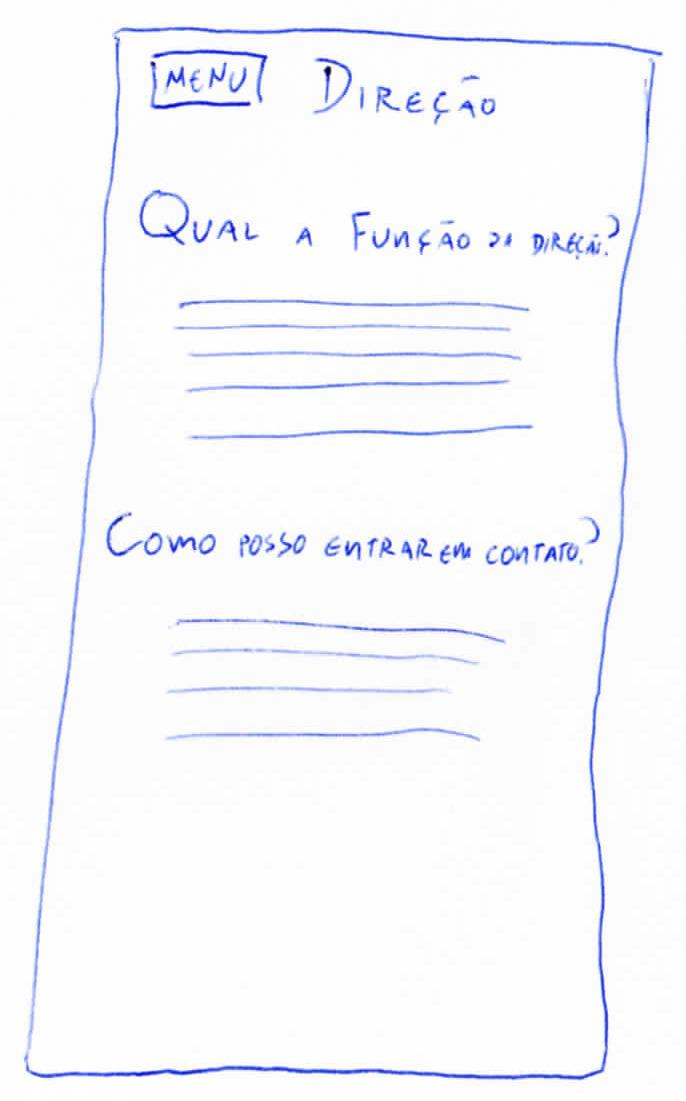Button: (150, 51, 268, 109)
Label: (173, 300, 535, 440), (163, 620, 506, 743), (141, 191, 621, 261), (108, 510, 600, 566), (313, 57, 499, 122)
Screen: (22, 29, 654, 1080)
